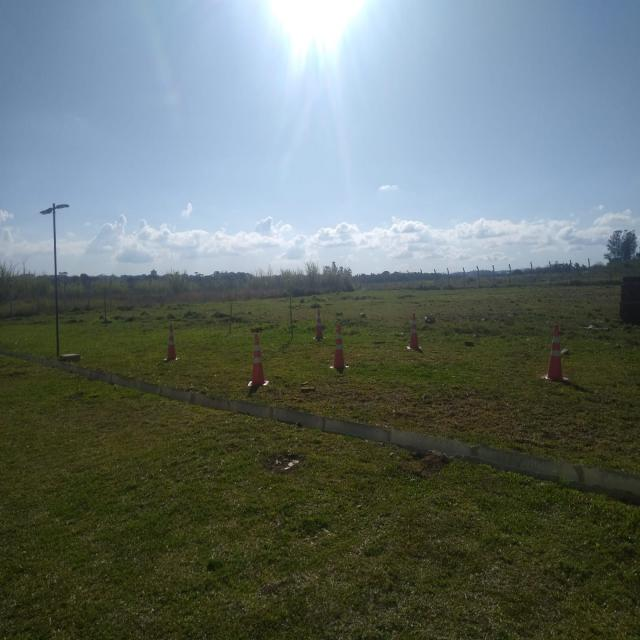cone: (540, 316, 572, 389), (326, 322, 352, 373), (248, 330, 270, 389), (161, 322, 182, 368), (403, 311, 425, 354), (310, 304, 326, 342)
